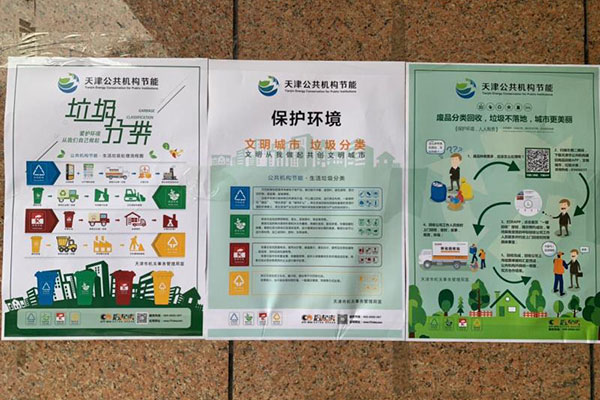bill: (7, 56, 205, 338), (208, 59, 406, 341), (408, 61, 600, 342)
